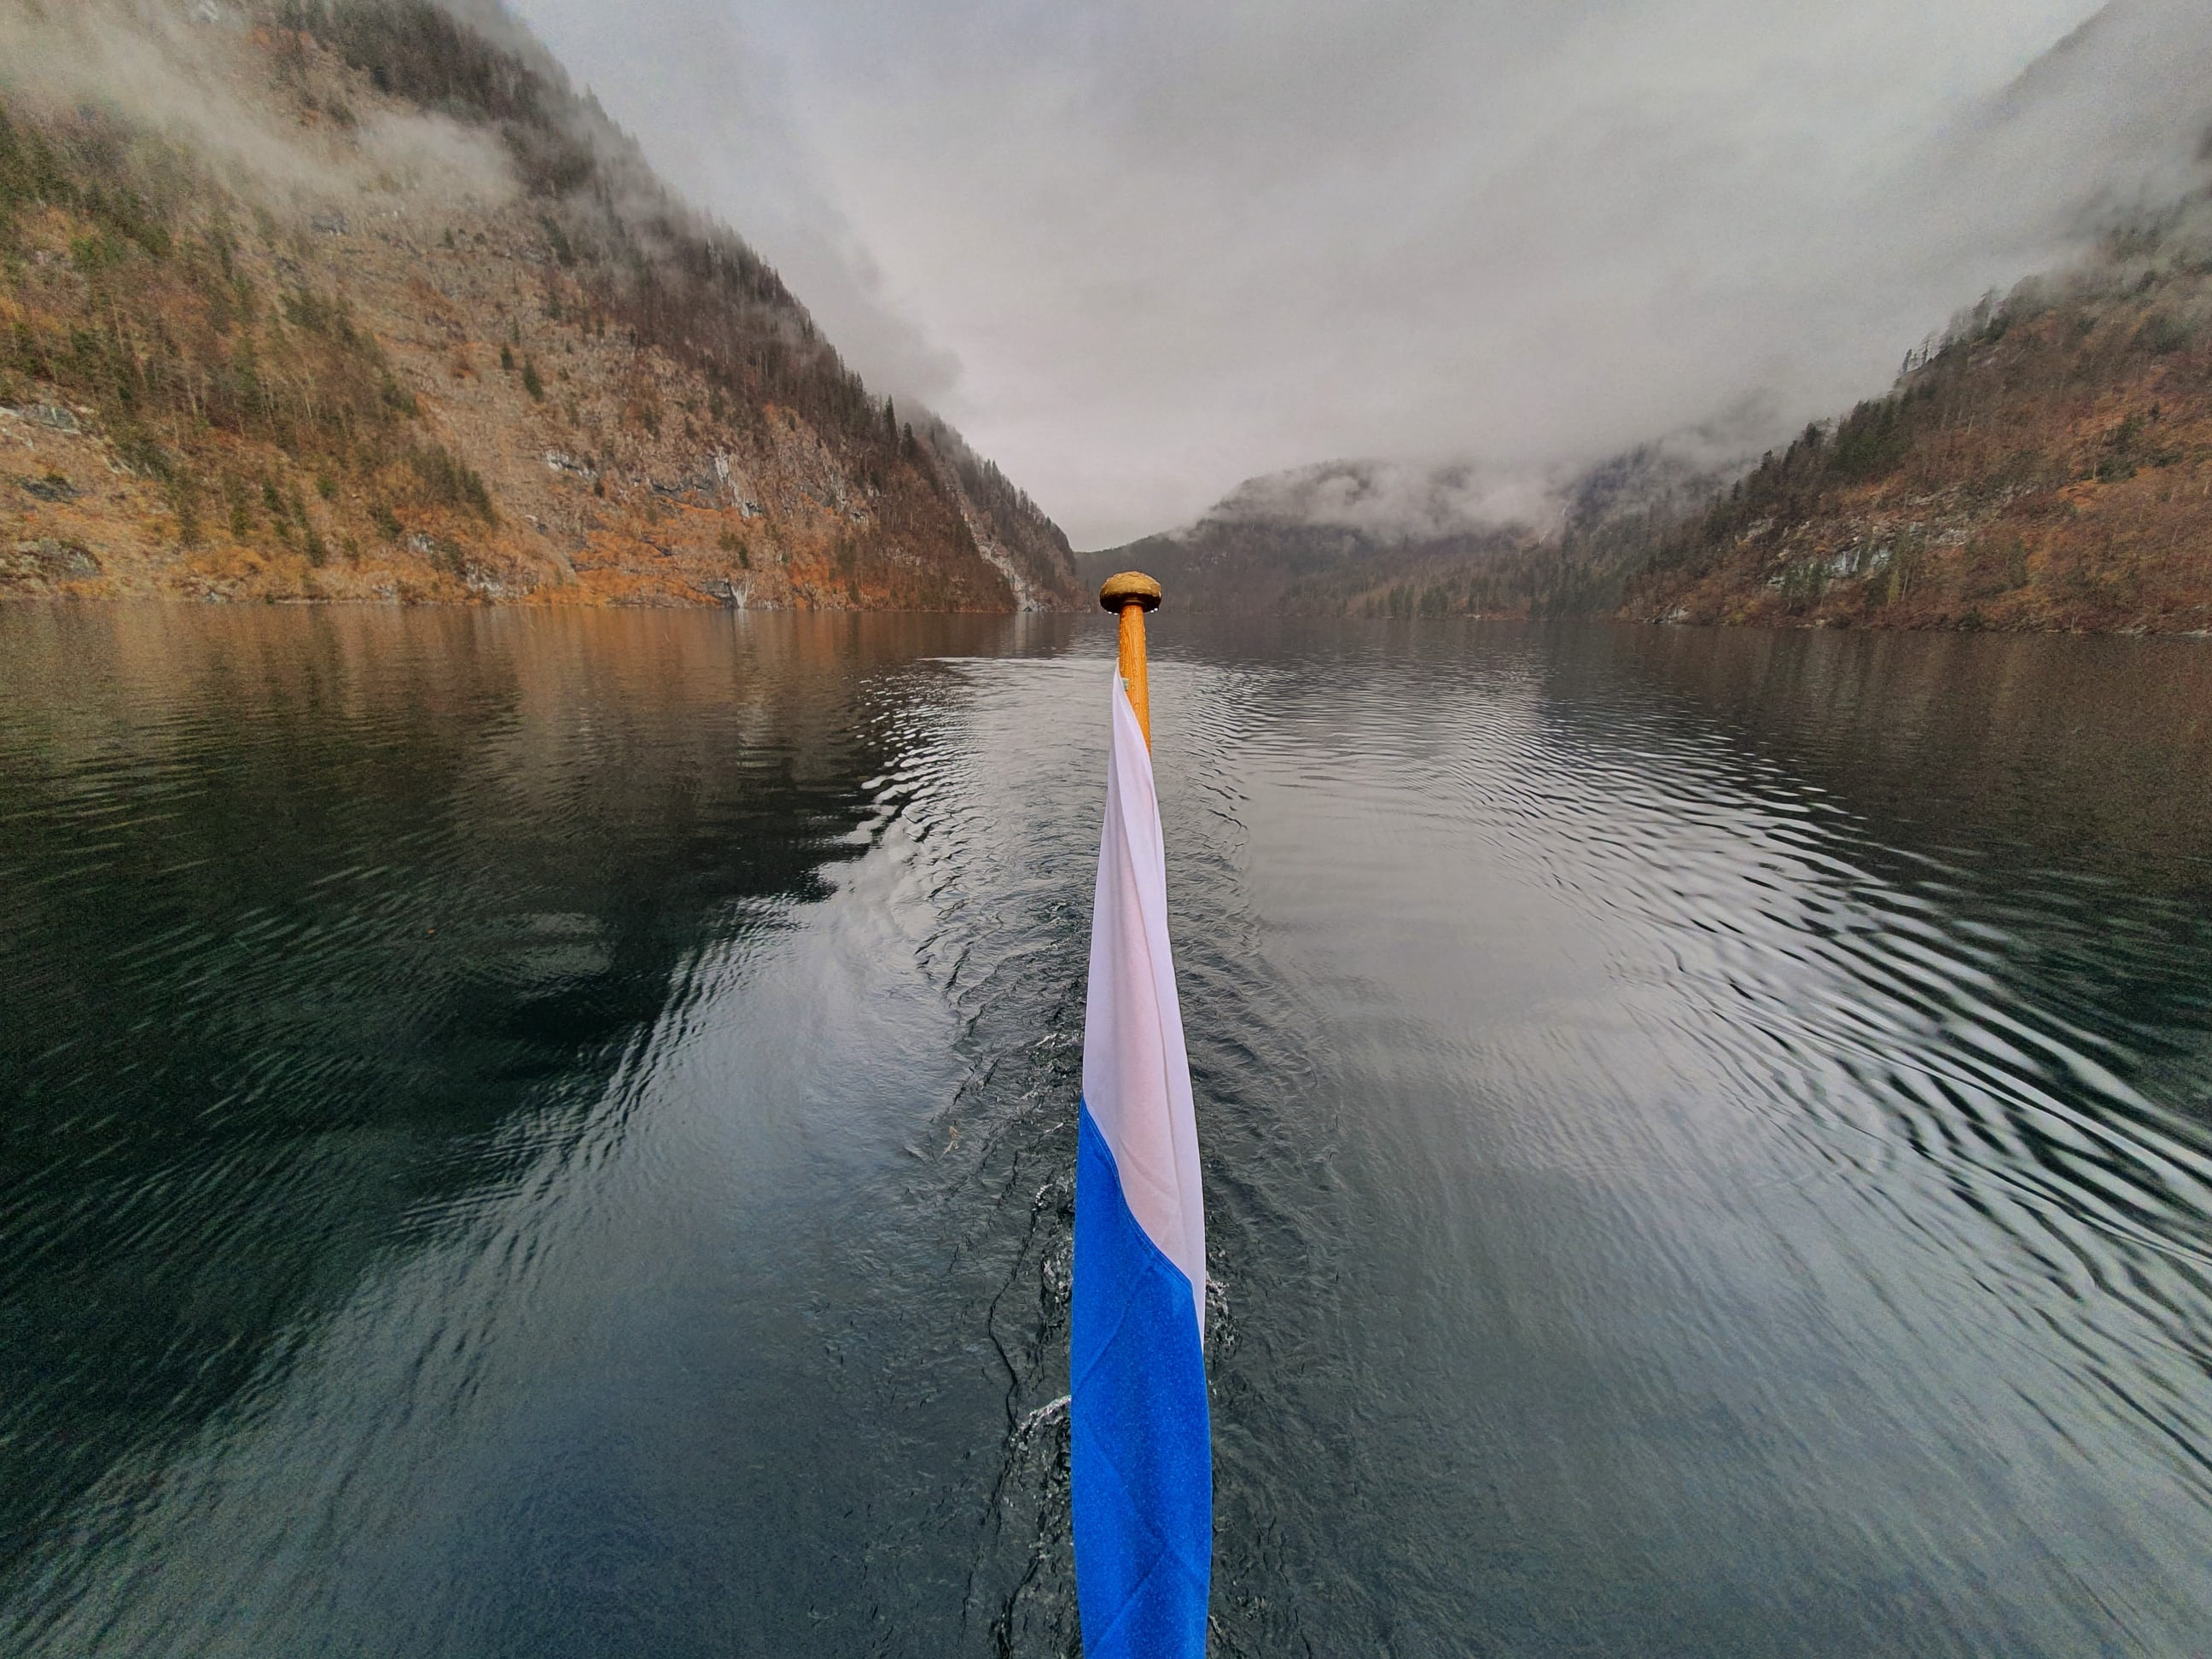Flag: (1061, 669, 1214, 1659)
